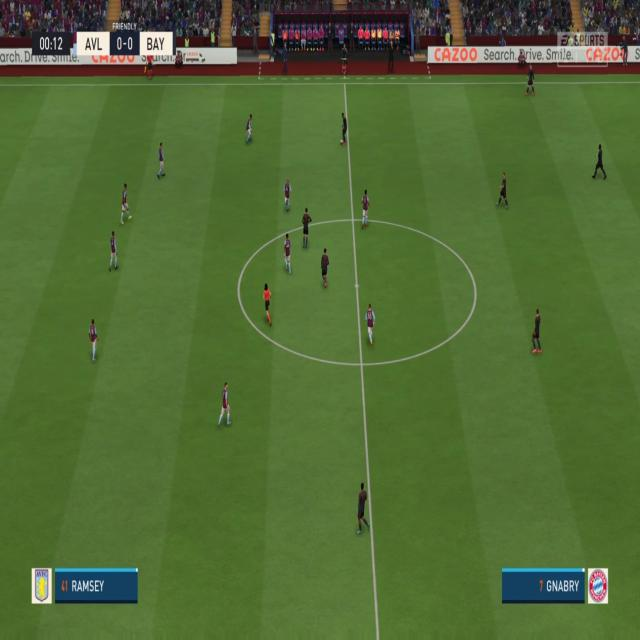Ball: (339, 138, 344, 145)
Referee: (261, 284, 273, 325)
Team-A: (358, 481, 370, 535), (590, 145, 606, 180), (532, 308, 544, 354), (496, 172, 508, 209), (318, 250, 329, 288), (302, 211, 312, 249), (524, 68, 535, 96), (340, 114, 349, 146)
Team-H: (217, 382, 231, 429), (121, 182, 134, 224), (88, 318, 99, 363), (366, 305, 377, 345), (362, 190, 373, 228), (157, 143, 168, 179), (110, 231, 120, 270), (284, 235, 294, 272), (282, 179, 292, 213), (244, 114, 254, 146)
